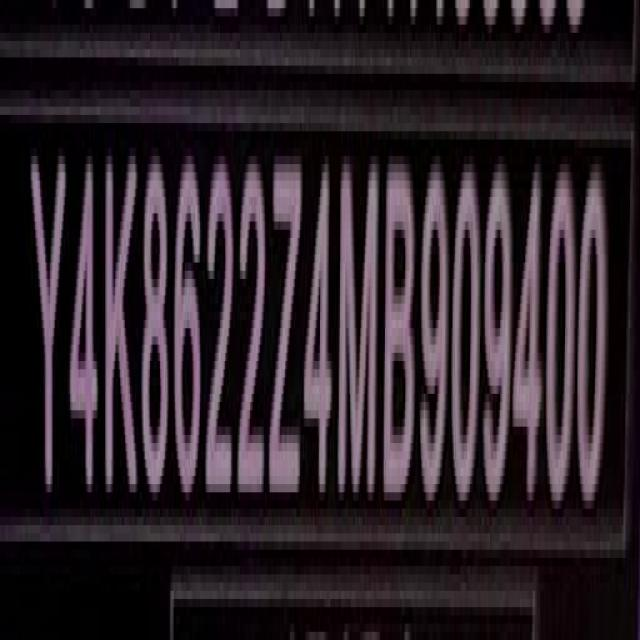0: (578, 134, 611, 522), (544, 137, 575, 520), (452, 142, 482, 514)
2: (205, 141, 237, 512), (238, 134, 269, 514)
4: (69, 133, 102, 513), (513, 137, 544, 518), (305, 155, 334, 507)
6: (175, 131, 206, 514)
8: (143, 136, 173, 510)
9: (418, 142, 450, 515), (482, 136, 512, 516)
B: (386, 132, 421, 516)
K: (105, 132, 144, 510)
M: (340, 133, 383, 512)
Y: (31, 120, 68, 516)
Z: (268, 152, 304, 504)
